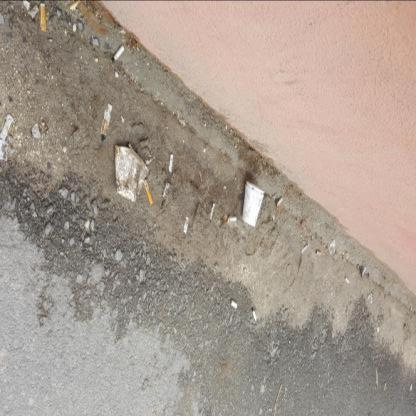Cigarette: (102, 103, 113, 142), (1, 113, 13, 140), (144, 176, 153, 205), (112, 44, 124, 62), (276, 196, 283, 208), (169, 153, 173, 172), (230, 299, 238, 308), (360, 266, 366, 277), (302, 244, 308, 254), (252, 308, 257, 320), (344, 276, 349, 283), (229, 217, 237, 221), (316, 250, 322, 255)
Cup: (116, 145, 149, 202), (243, 185, 264, 226), (246, 180, 265, 194)
Paper: (39, 3, 47, 32)
Unlabeled litter: (0, 139, 8, 161), (31, 123, 41, 138), (144, 153, 156, 164), (209, 203, 215, 221), (163, 183, 169, 198), (184, 217, 189, 234), (371, 293, 372, 303)
